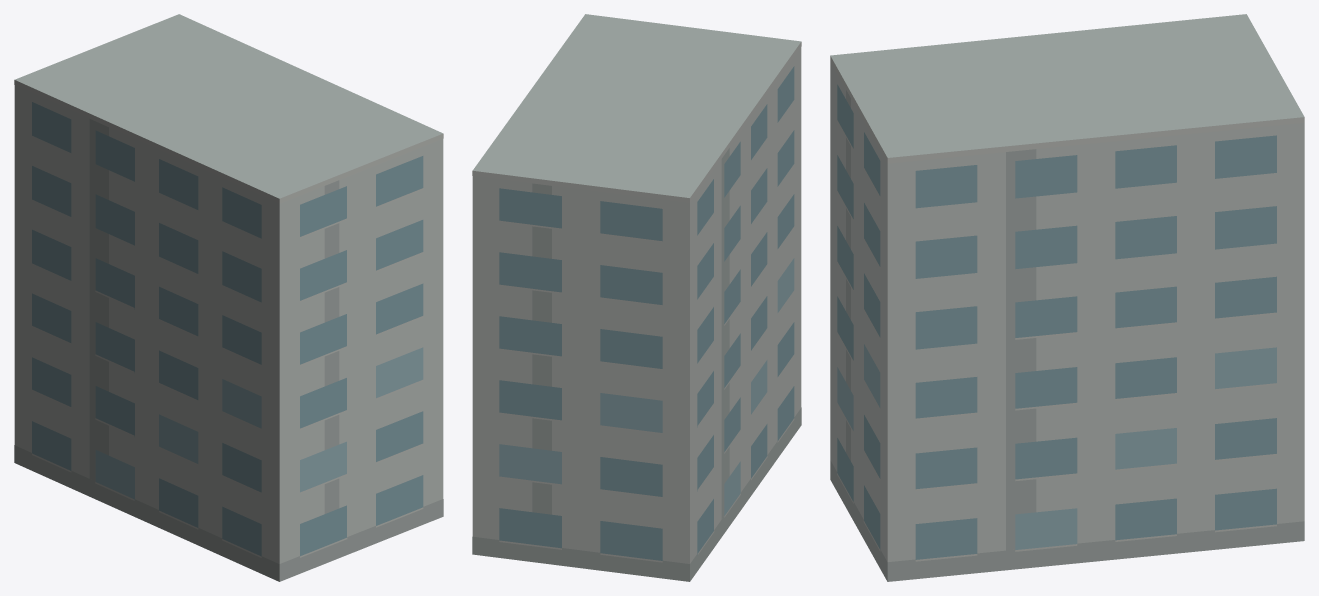
The model's file is survey-upis-32595727.glb.
The picture shows the model from 3 angles, left to right: view 1: azimuth 30°, elevation 25°; view 2: azimuth 150°, elevation 25°; view 3: azimuth 270°, elevation 25°; orthographic projection. The views are drawn at different scales.
Visible parts, largest first — view 1: survey-upis-32595727.tmp; view 2: survey-upis-32595727.tmp; view 3: survey-upis-32595727.tmp.
Part boxes in pixels (<box>): survey-upis-32595727.tmp: <box>14,14,443,581</box>; survey-upis-32595727.tmp: <box>472,14,801,581</box>; survey-upis-32595727.tmp: <box>830,14,1304,581</box>.
Bounding box in the file's own units: 13.19 × 18.1 × 18.37.
